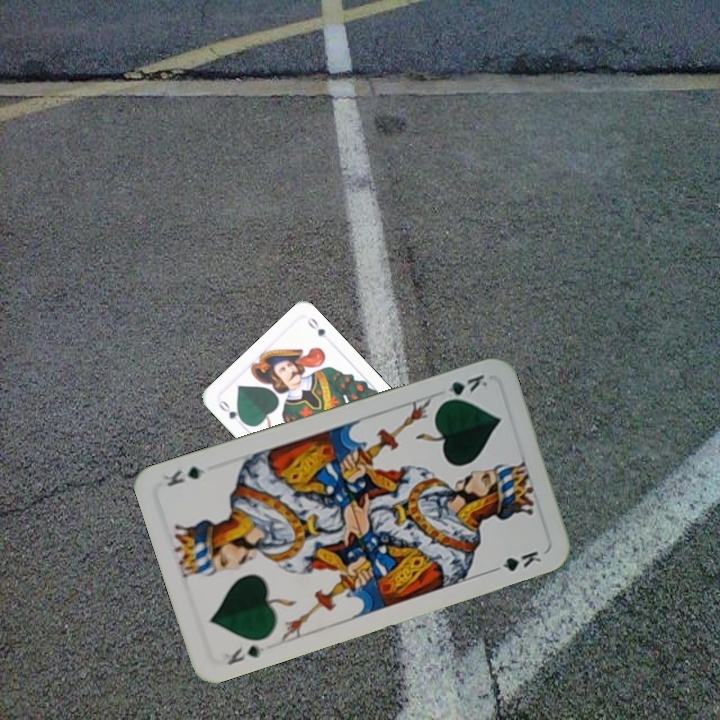GK: (437, 370, 490, 406), (223, 641, 267, 668)
GO: (214, 396, 248, 427)
